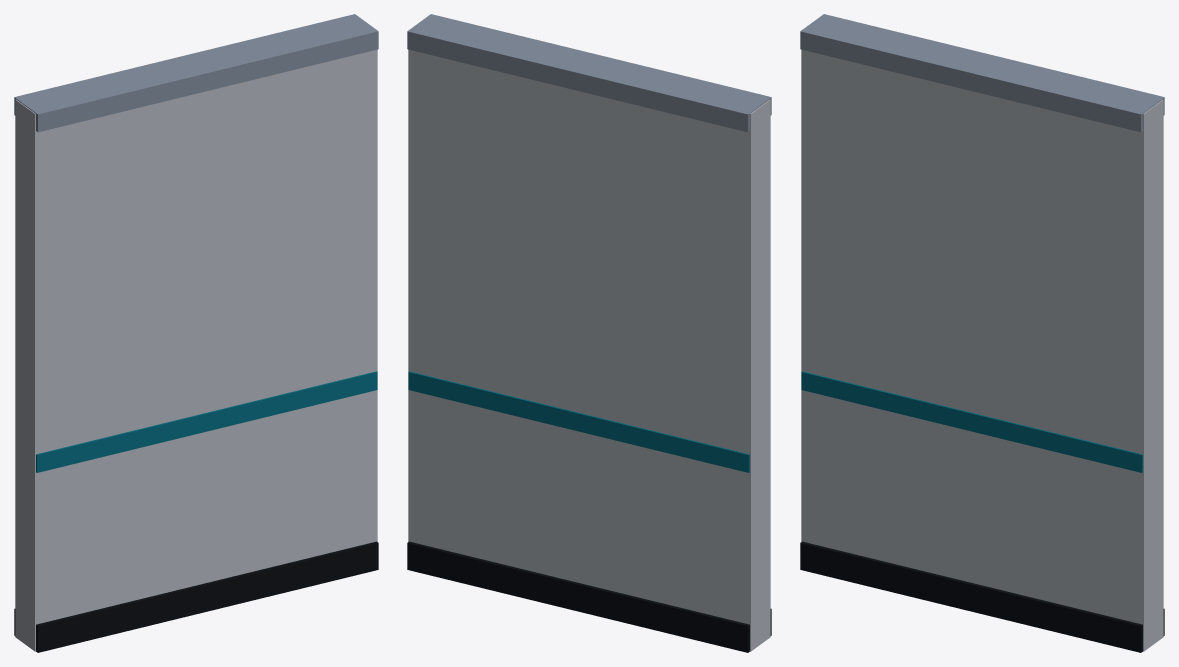
The model's file is SM_Wall_2x3.glb.
The picture shows the model from 3 angles, left to right: view 1: azimuth 30°, elevation 25°; view 2: azimuth 150°, elevation 25°; view 3: azimuth 330°, elevation 25°; orthographic projection.
Visible parts, largest first — view 1: SM_Wall_2x3-col; view 2: SM_Wall_2x3-col; view 3: SM_Wall_2x3-col.
Part boxes in pixels (bbox=[...]): SM_Wall_2x3-col: bbox=[14, 14, 378, 652]; SM_Wall_2x3-col: bbox=[407, 14, 771, 652]; SM_Wall_2x3-col: bbox=[800, 14, 1164, 652].
Size of the model in its own units: 2 by 3 by 0.24.
